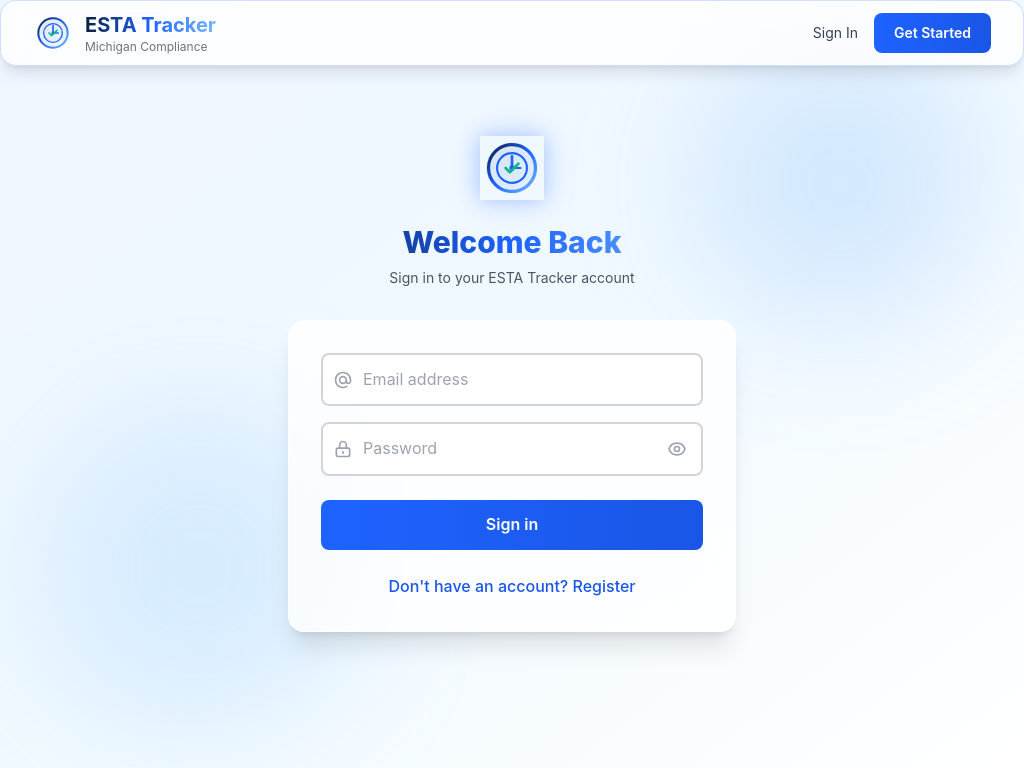
Test: Login Page › Firebase Authentication › should handle Firebase authentication errors
Type "test@example.com" into the field with placeholder "Email address" at (512, 380), box [321, 353, 703, 406]
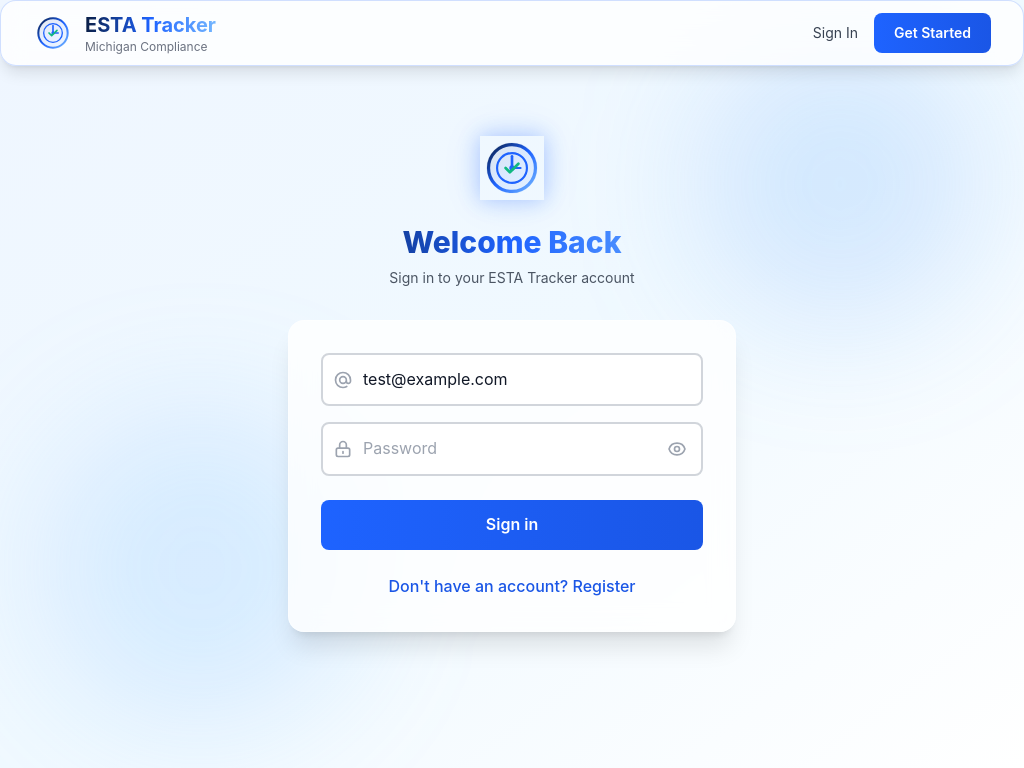
Type "wrongpassword" into the password field with placeholder "Password" at (512, 449), box [321, 422, 703, 476]
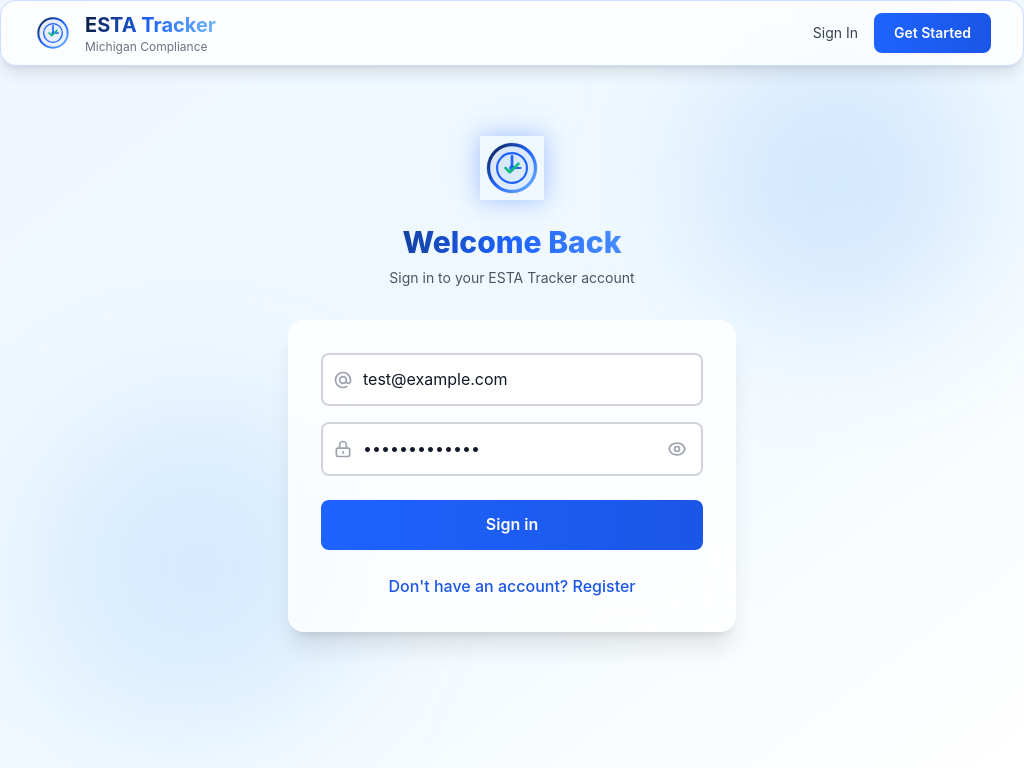
Click the button "Sign in" at (512, 525), box [321, 500, 703, 550]
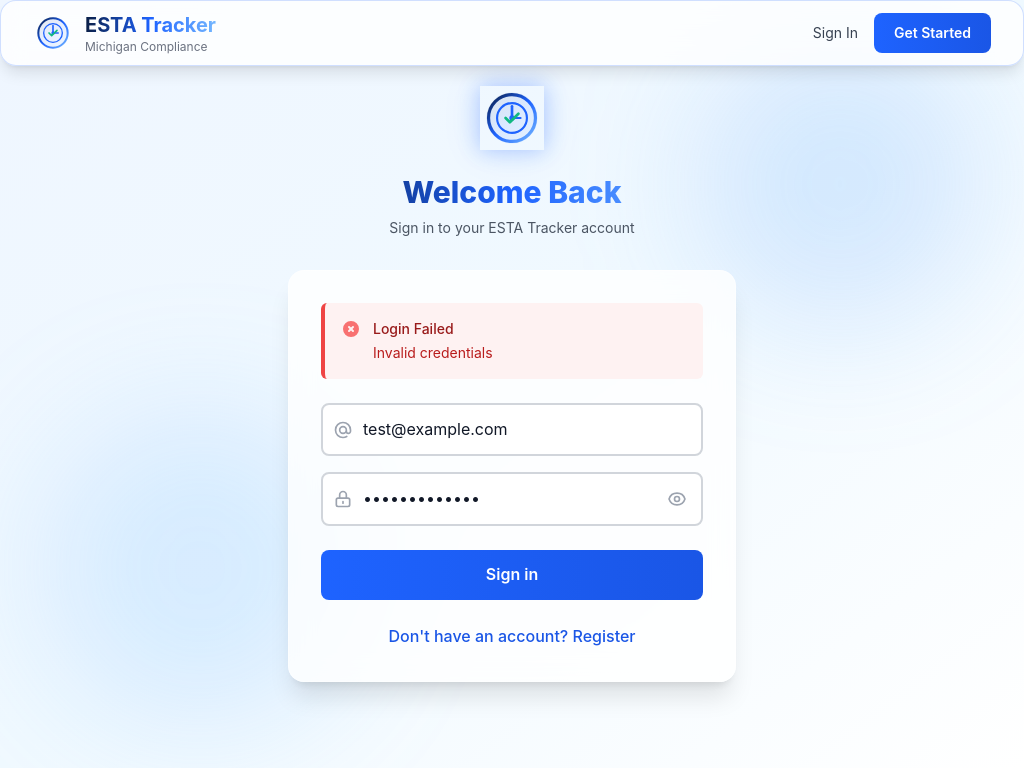
expect the text "Invalid credentials" is shown: met, box [373, 344, 493, 361]
